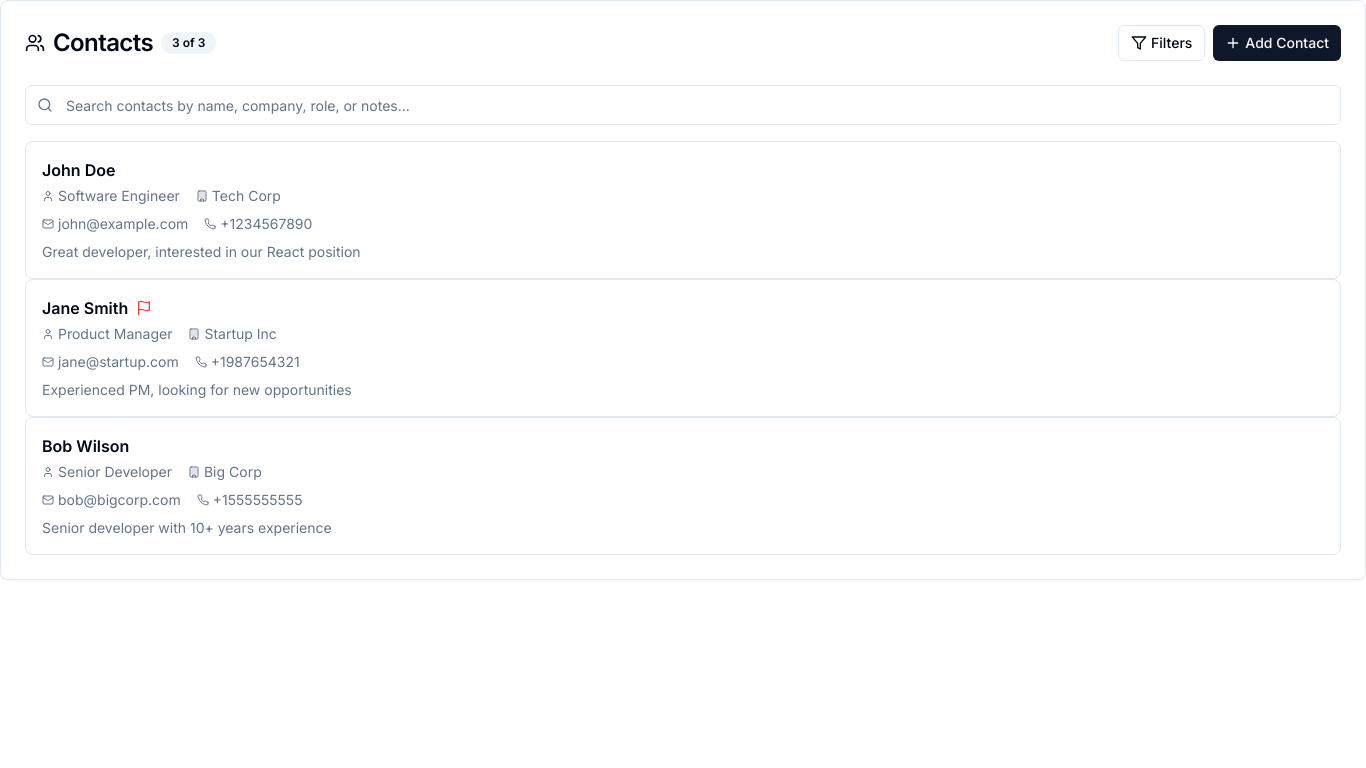
Test: ContactList › Combined Search and Filters › should combine search and filters correctly
Apply search
Type "Developer" into the field with placeholder "Search contacts by name, company, role, or notes..." at [683, 105], box [25,85,1341,125]
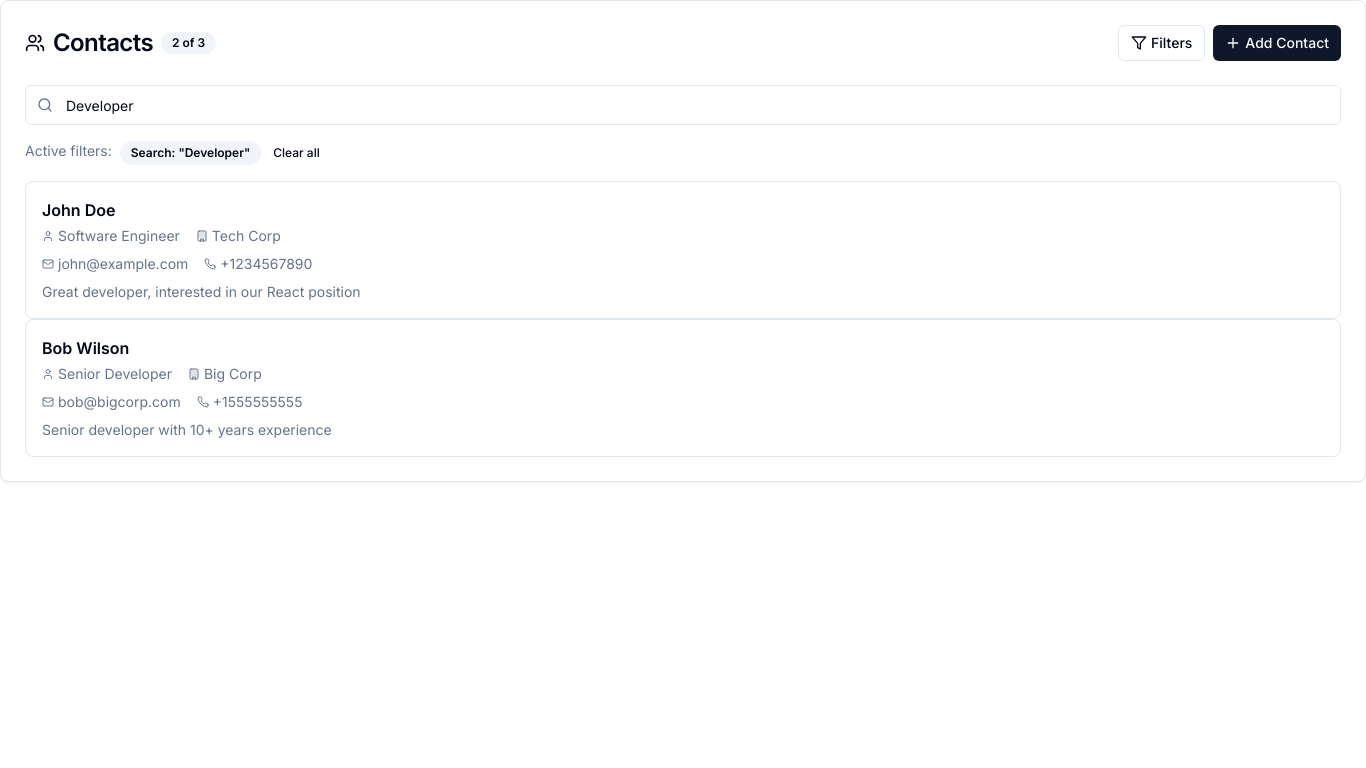
Open filters and apply flagged filter
Click the button "Filters" at [1162, 43], box [1118,25,1205,61]
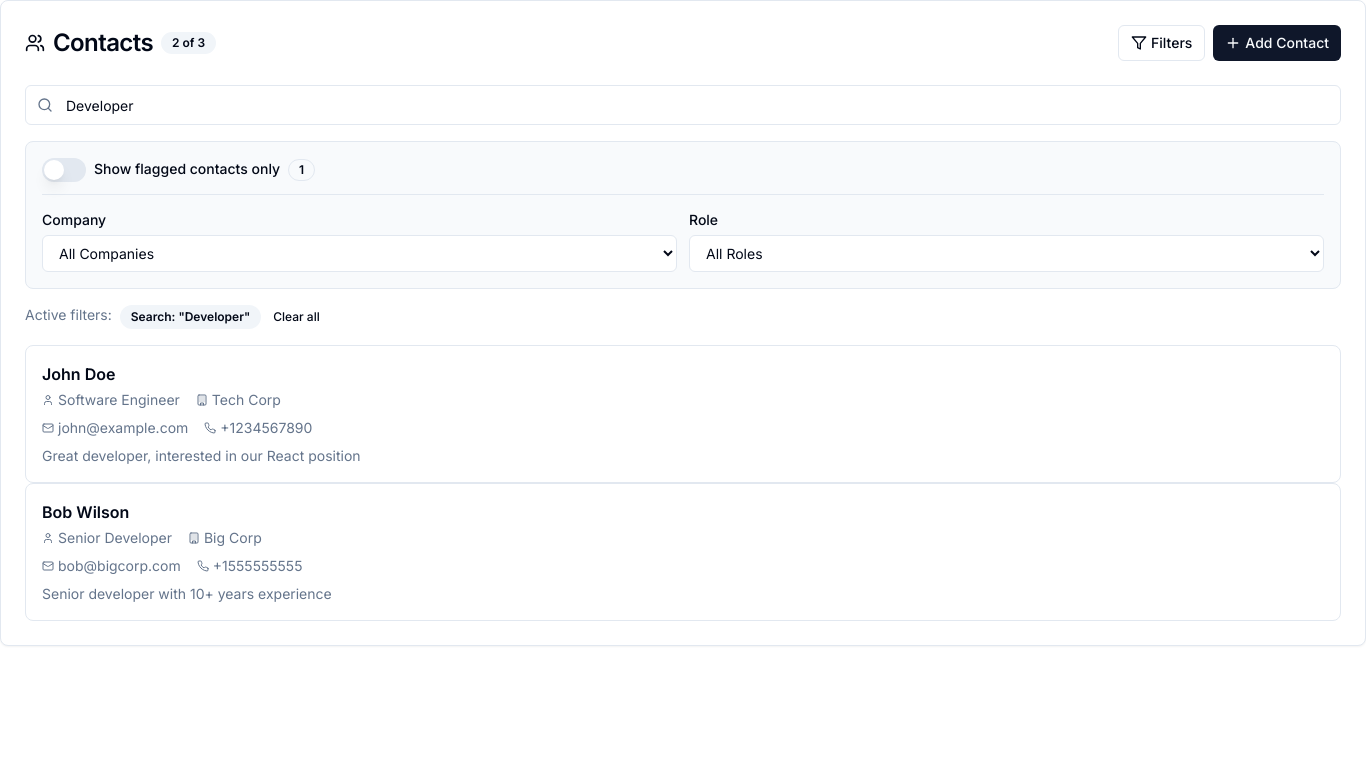
Click the switch named "show flagged contacts only" at [64, 170], box [42,158,86,182]
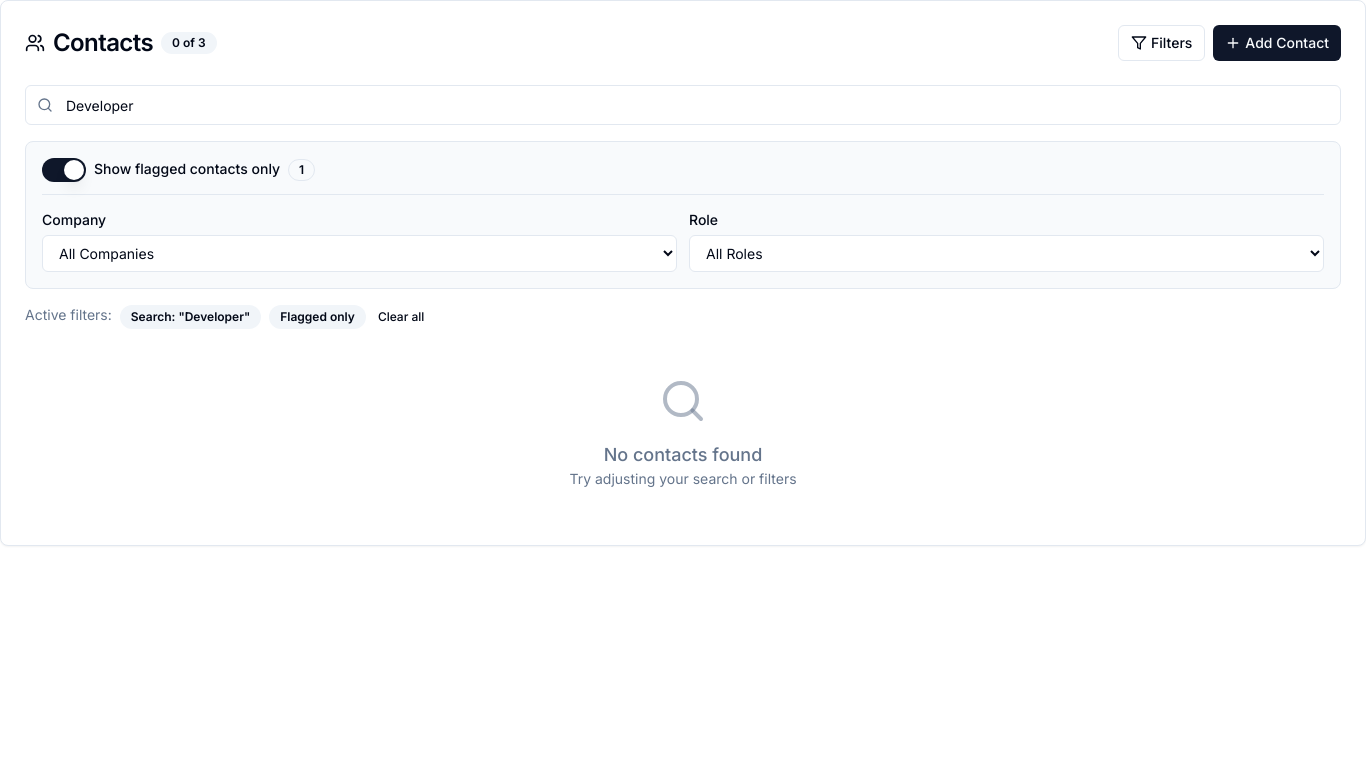
Now the text "No contacts found" is shown, box [604,444,762,465]
